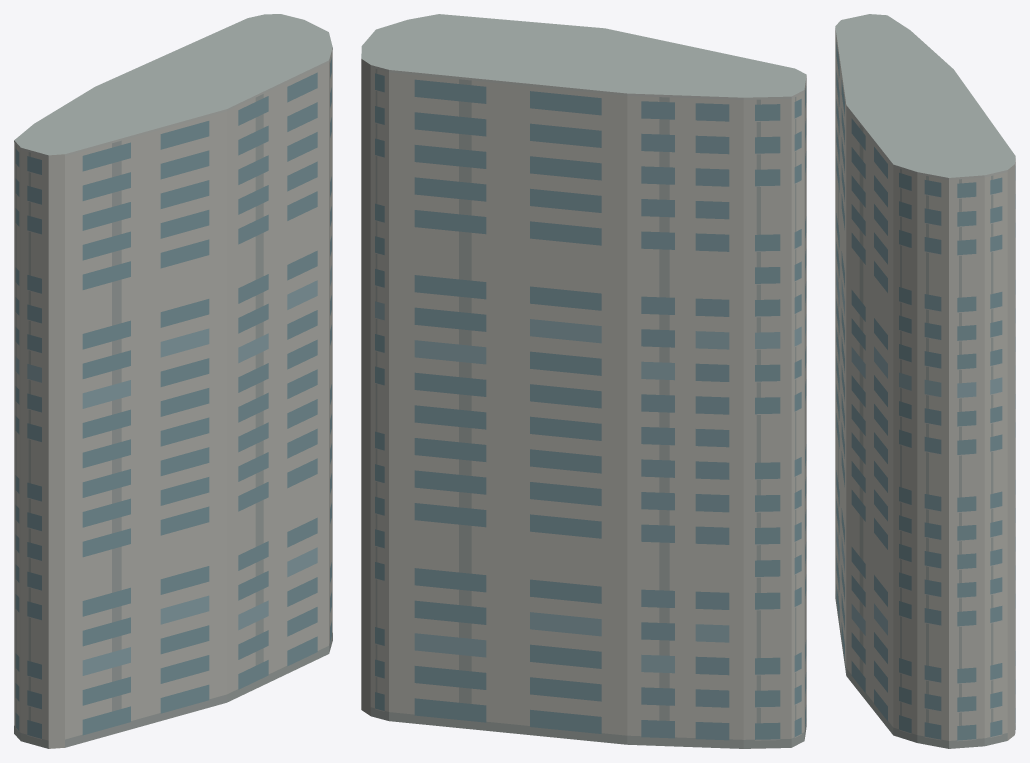
Rendered from residential-757ae27b-d28e-4d2e-a862-65d4c23ff625.glb.
3 renders of one model, left to right at view 1: azimuth 30°, elevation 25°; view 2: azimuth 150°, elevation 25°; view 3: azimuth 270°, elevation 25°, orthographic. The views are drawn at different scales.
Visible parts, largest first — view 1: residential-757ae27b-d28e-4d2e-a862-65d4c23ff625.tmp; view 2: residential-757ae27b-d28e-4d2e-a862-65d4c23ff625.tmp; view 3: residential-757ae27b-d28e-4d2e-a862-65d4c23ff625.tmp.
Boxes of the visible parts, x1,y1,x2,y2 form: residential-757ae27b-d28e-4d2e-a862-65d4c23ff625.tmp: (14,14,332,748); residential-757ae27b-d28e-4d2e-a862-65d4c23ff625.tmp: (361,14,806,748); residential-757ae27b-d28e-4d2e-a862-65d4c23ff625.tmp: (835,14,1015,748).
Size of the model in its own units: 40.66 by 66 by 18.91.
